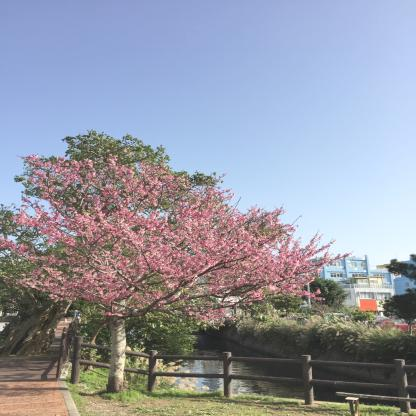KanhiSakura: (0, 147, 356, 340)
